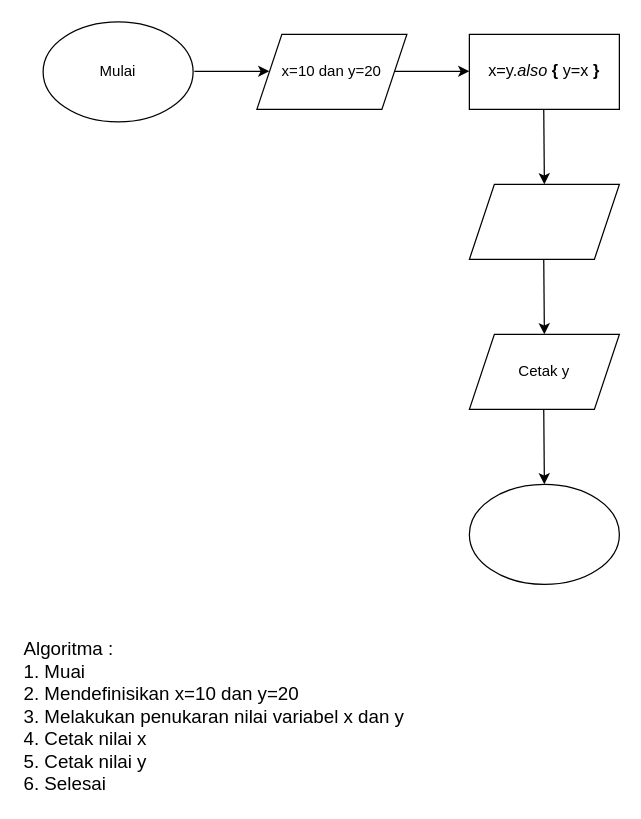
The diagram is 641 pixels wide and 819 high, and some of its shapes have lost their labels. The shapes that lost their labels are listed below. From the top down, each one's centre as x and y in pixels, then its label:
the point at 543,221: Cetak x
the point at 543,533: Selesai
